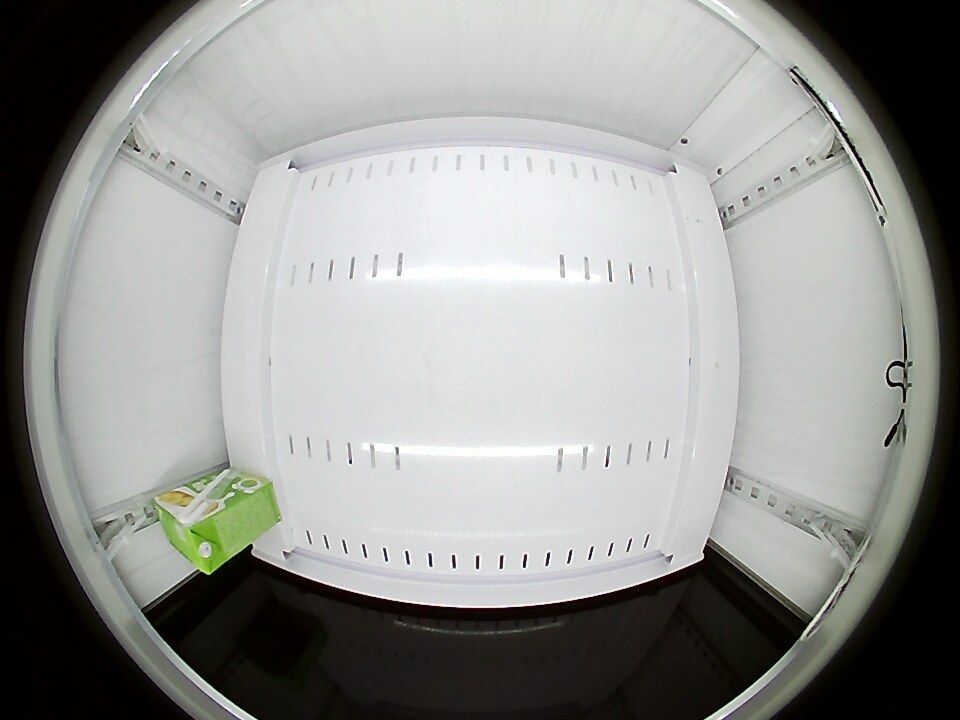mengniuzaocan: (156, 488, 234, 575)
